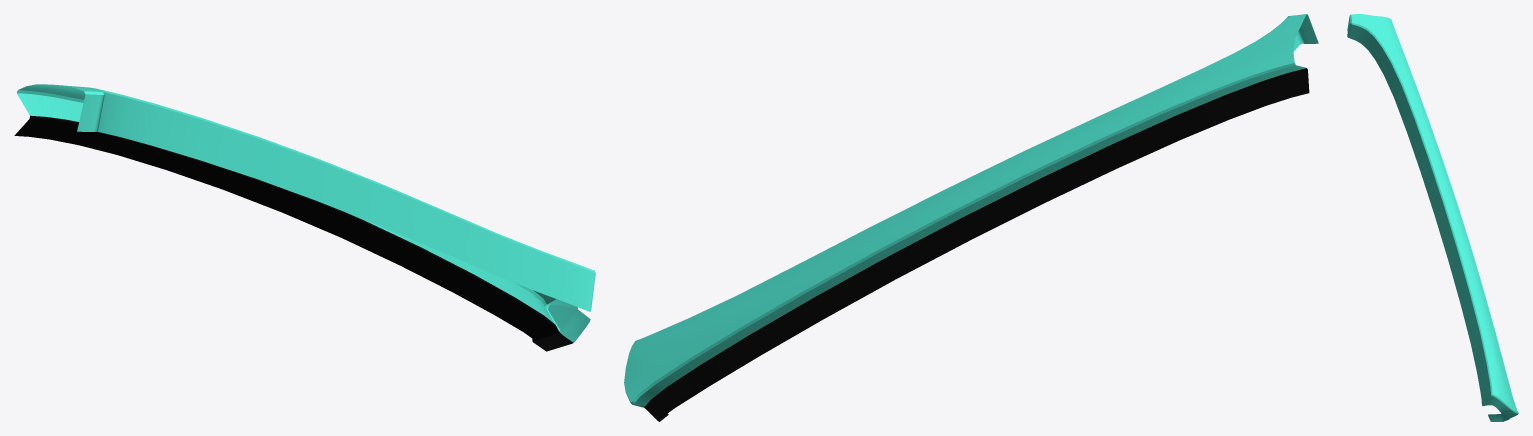
The picture shows the model from 3 angles, left to right: view 1: azimuth 30°, elevation 25°; view 2: azimuth 150°, elevation 25°; view 3: azimuth 270°, elevation 25°; orthographic projection. The views are drawn at different scales.
Parts seen in each view (by area): view 1: H025_10_181C_L_1_DaS_H025_10_181C_L, H025_10_181C_L_H025_10_181C_L_2_D, H025_10_181C_L_1_DaS_H025_10_181C_L_E; view 2: H025_10_181C_L_1_DaS_H025_10_181C_L, H025_10_181C_L_H025_10_181C_L_2_D, H025_10_181C_L_1_DaS_H025_10_181C_L_E; view 3: H025_10_181C_L_1_DaS_H025_10_181C_L, H025_10_181C_L_1_DaS_H025_10_181C_L_E.
Part boxes in pixels (box(x1,y1,x2,y2)): H025_10_181C_L_1_DaS_H025_10_181C_L: box(17, 84, 595, 342); H025_10_181C_L_H025_10_181C_L_2_D: box(14, 115, 573, 351); H025_10_181C_L_1_DaS_H025_10_181C_L_E: box(17, 88, 595, 308); H025_10_181C_L_1_DaS_H025_10_181C_L: box(624, 14, 1318, 407); H025_10_181C_L_H025_10_181C_L_2_D: box(644, 68, 1309, 421); H025_10_181C_L_1_DaS_H025_10_181C_L_E: box(624, 14, 1307, 404); H025_10_181C_L_1_DaS_H025_10_181C_L: box(1347, 14, 1518, 421); H025_10_181C_L_1_DaS_H025_10_181C_L_E: box(1349, 15, 1518, 413).
Bounding box in the file's own units: 64.84 × 46.33 × 27.97.
